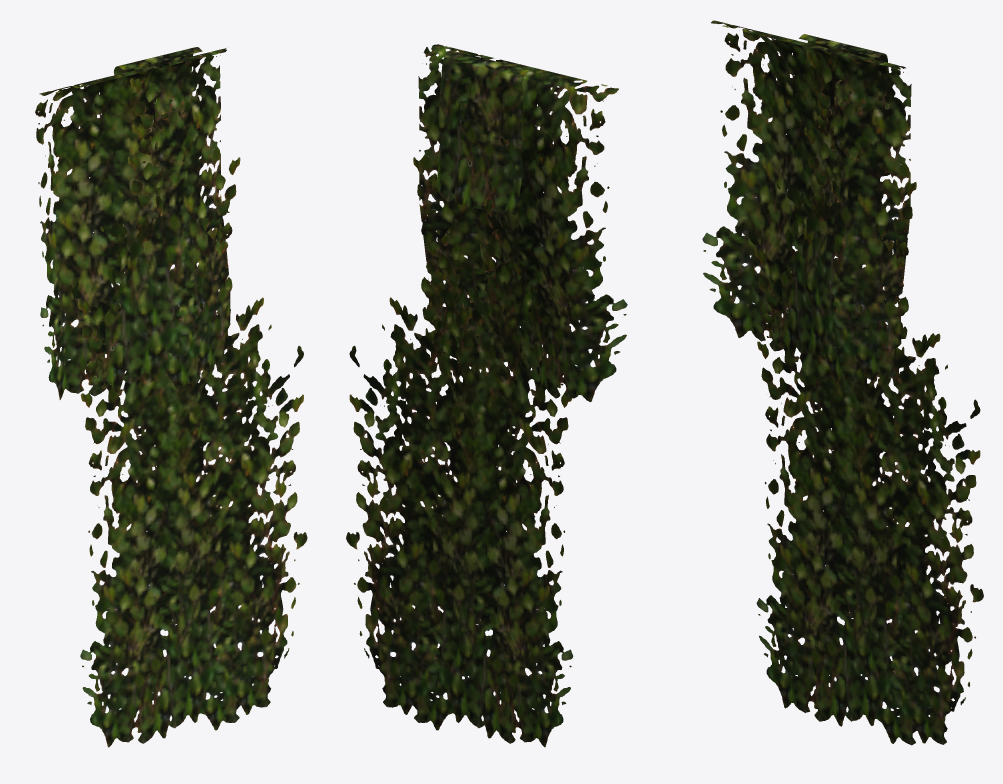
Rendered from ivywall_e.glb.
The picture shows the model from 3 angles, left to right: view 1: azimuth 30°, elevation 25°; view 2: azimuth 150°, elevation 25°; view 3: azimuth 330°, elevation 25°; orthographic projection.
Parts seen in each view (by area): view 1: IvyWall_E; view 2: IvyWall_E; view 3: IvyWall_E.
Part boxes in pixels (x1=…): IvyWall_E: x1=35, y1=47, x2=307, y2=747; IvyWall_E: x1=346, y1=44, x2=627, y2=747; IvyWall_E: x1=702, y1=20, x2=983, y2=745.
Bounding box in the file's own units: 0.6225 × 1.4 × 0.1191.
Materials: 1 (1 with a texture image).
